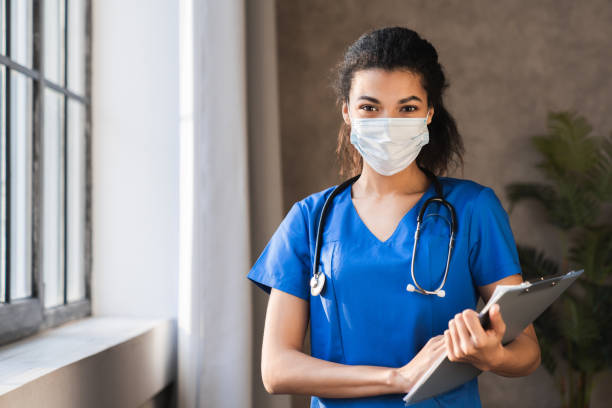with mask: (340, 63, 432, 178)
